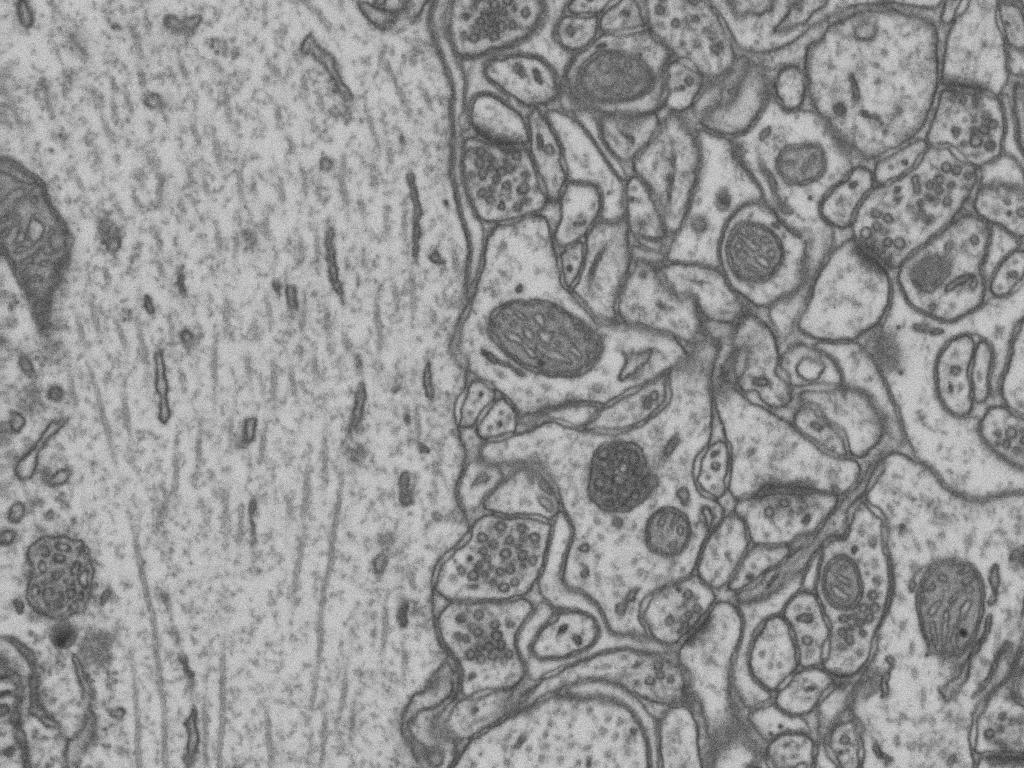mitochondria: (11, 200, 126, 439), (469, 286, 594, 382), (920, 572, 1005, 705), (548, 45, 638, 130), (726, 220, 812, 305), (635, 502, 709, 579), (752, 138, 833, 207), (816, 526, 878, 612), (795, 612, 863, 679), (751, 0, 862, 29)
